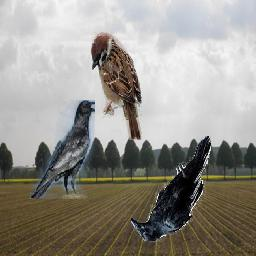Crow: (131, 136, 211, 242), (31, 101, 96, 200)
Sparrow: (90, 32, 142, 140)
